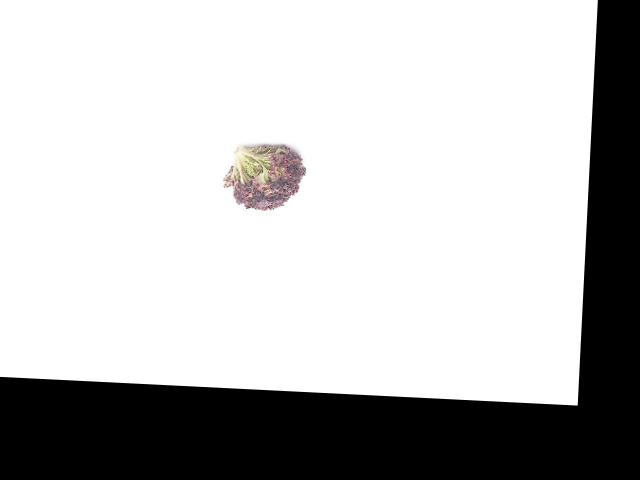lettuce: (226, 137, 311, 215)
